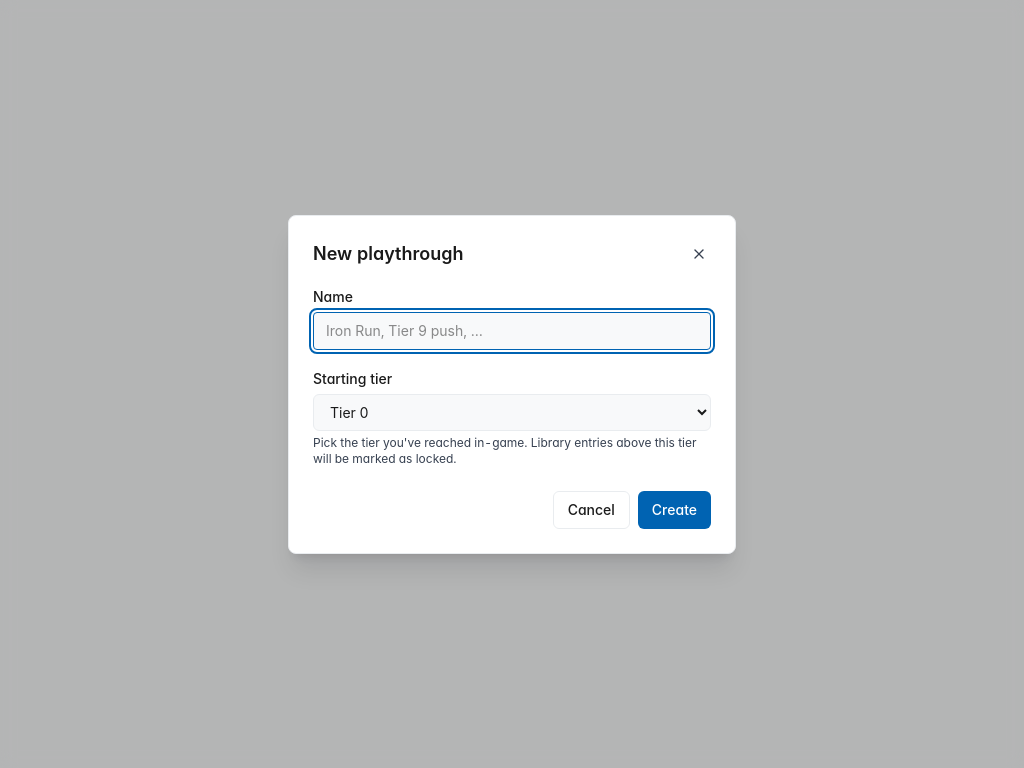
Test: <CreatePlaythroughModal /> › surfaces a server error via role=alert and keeps the modal open
Type "Run" into the field labelled "Name".
click(512, 330); type("Run")  # box [313, 312, 711, 350]
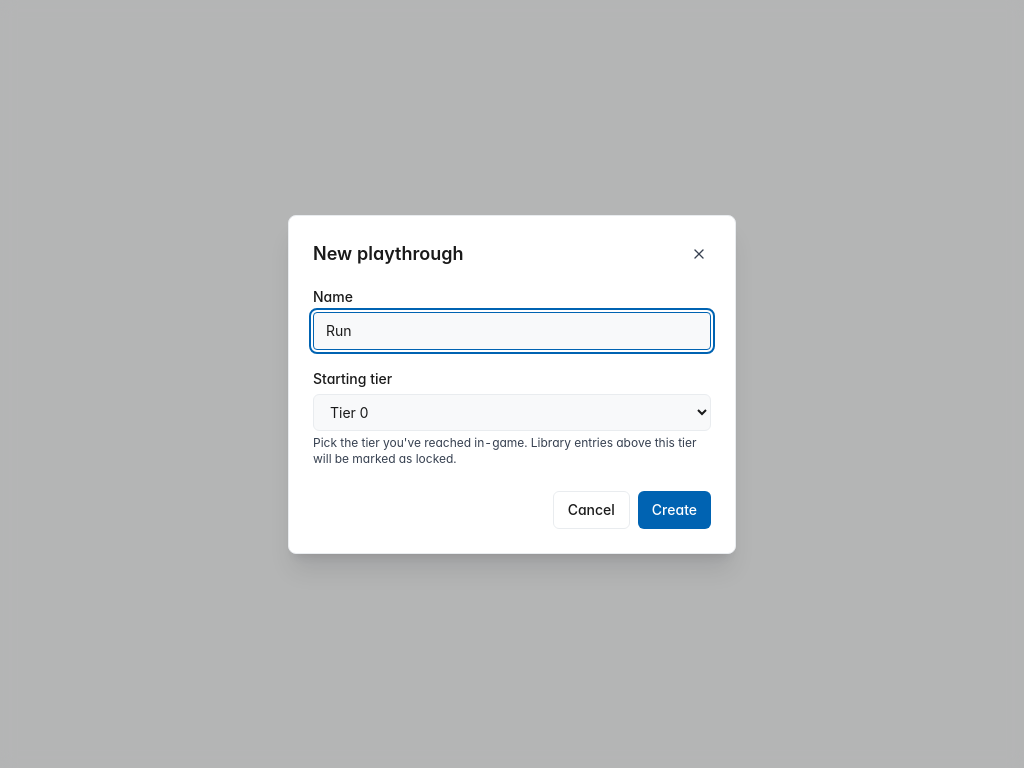
Click the button "Create".
click(674, 510)  # box [638, 490, 711, 528]
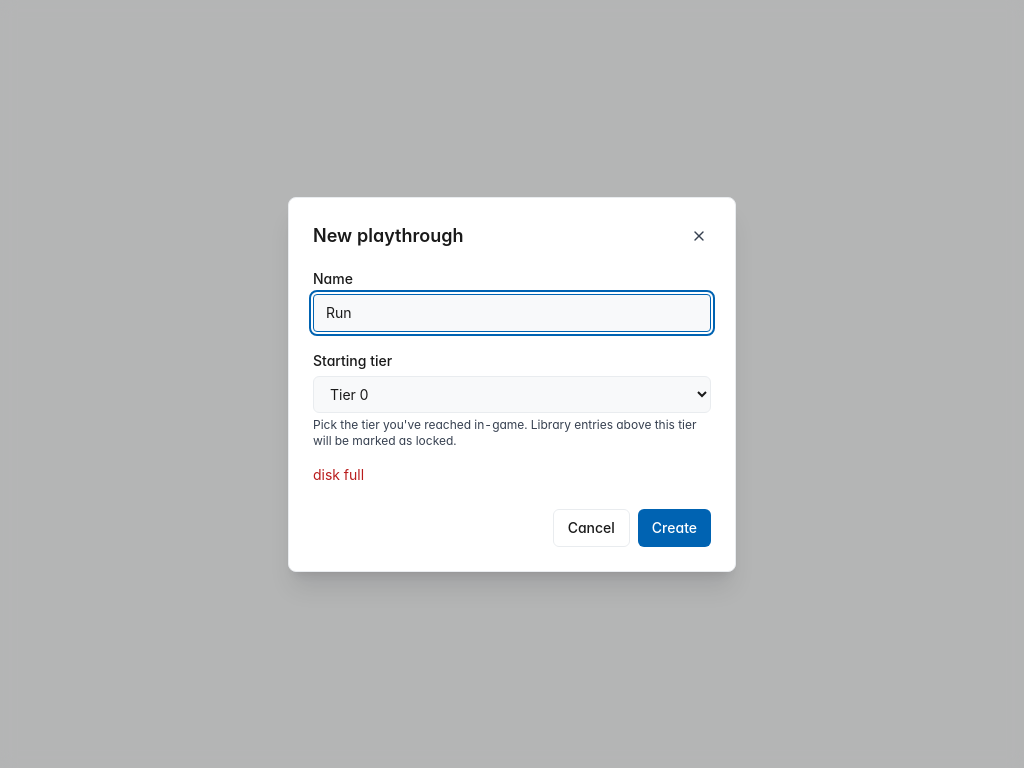
Expected: the message reads "disk full", [313, 466, 364, 482]
